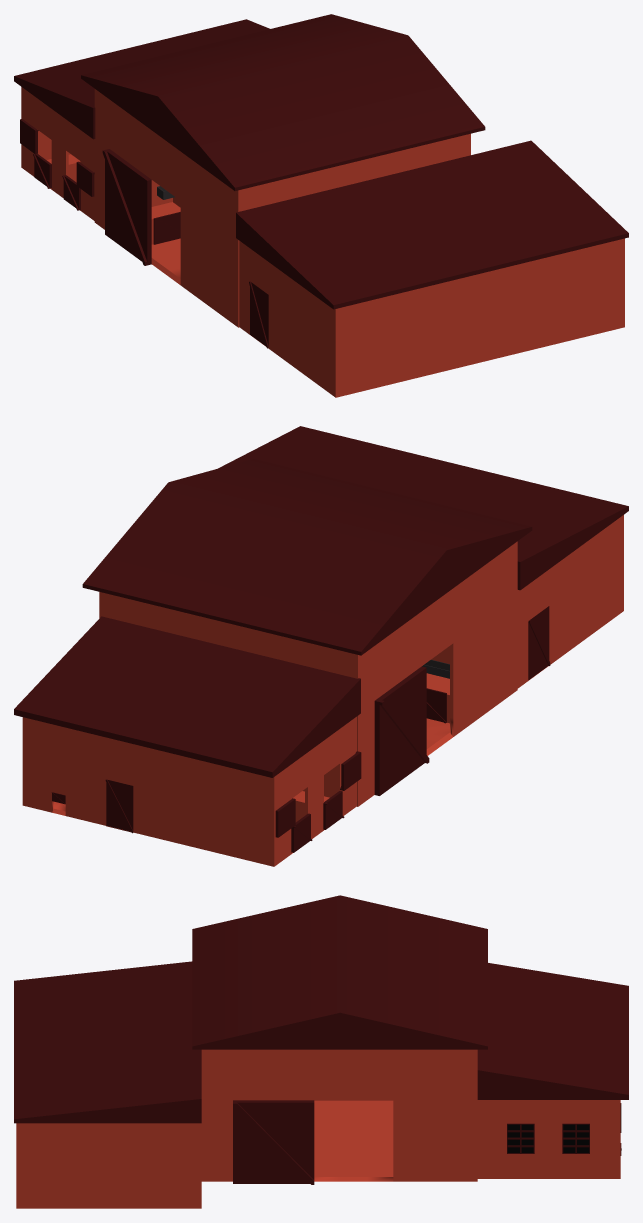
File: Stall.FBX
The picture shows the model from 3 angles, top to bottom: view 1: azimuth 30°, elevation 25°; view 2: azimuth 150°, elevation 25°; view 3: azimuth 270°, elevation 25°; orthographic projection. The views are drawn at different scales.
Visible parts, largest first — view 1: MainAussenwand, MainTor1, PigTor11, MainTorHorse1; view 2: MainAussenwand, MainTor1, ChickenTor1, PigTor11, MainTorCow, DonkeyTorOben2, DonkeyTorOben1; view 3: MainAussenwand, MainTor2.
Boxes of the visible parts, left/top/right/bottom form: MainAussenwand: left=14, top=14, right=628, bottom=397; MainTor1: left=102, top=149, right=151, bottom=265; PigTor11: left=249, top=281, right=268, bottom=348; MainTorHorse1: left=153, top=212, right=180, bottom=244; MainAussenwand: left=14, top=426, right=628, bottom=866; MainTor1: left=374, top=666, right=429, bottom=795; ChickenTor1: left=105, top=779, right=133, bottom=833; PigTor11: left=528, top=606, right=550, bottom=680; MainTorCow: left=426, top=688, right=446, bottom=723; DonkeyTorOben2: left=340, top=751, right=361, bottom=790; DonkeyTorOben1: left=275, top=798, right=295, bottom=837; MainAussenwand: left=14, top=895, right=628, bottom=1208; MainTor2: left=233, top=1100, right=314, bottom=1184.
Bounding box in the file's own units: 187 × 107 × 343.
